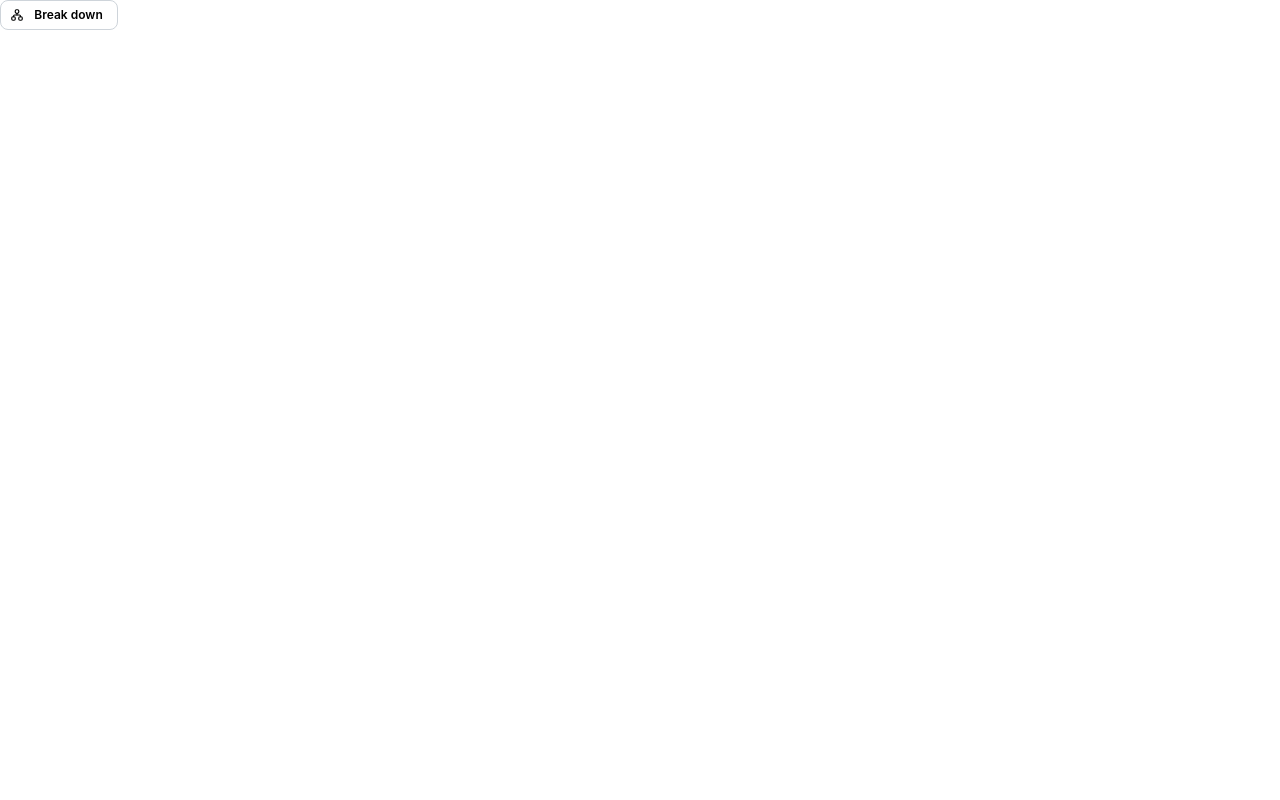
Test: BreakDown › lists the folders the study suggests and registers the ones left ticked
Later steps or results of the test are not shown.
What coordinates should you click on to do the following:
click the button "Break down"
I would click on:
 (59, 15)
Its box is [0, 0, 118, 30].
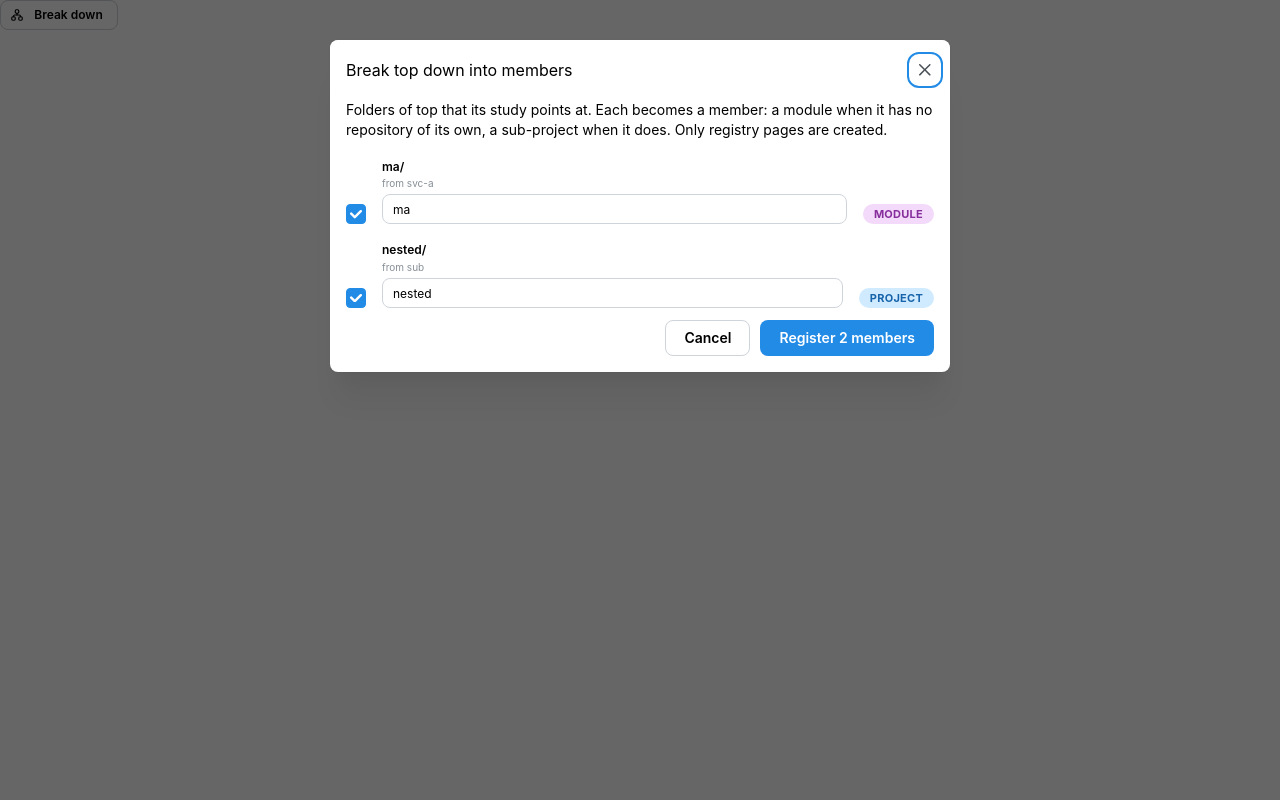
expect the text "ma/" is shown: met, box [382, 158, 404, 176]
expect the text "nested/" is shown: met, box [382, 241, 426, 260]
